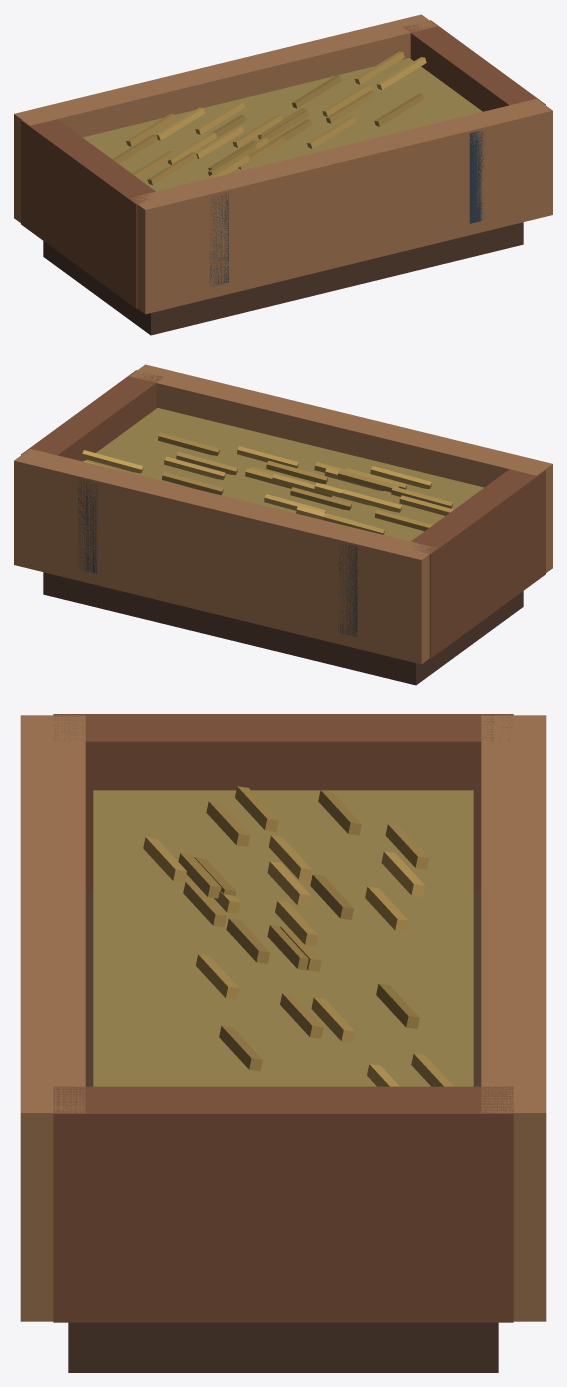
File: coop_feeder.glb
The picture shows the model from 3 angles, top to bottom: view 1: azimuth 30°, elevation 25°; view 2: azimuth 150°, elevation 25°; view 3: azimuth 270°, elevation 25°; orthographic projection. The views are drawn at different scales.
Parts seen in each view (by area): view 1: geometry, hay; view 2: geometry, hay; view 3: geometry, hay.
Part boxes in pixels (left/top/right/bottom): geometry: left=14, top=14, right=552, bottom=335; hay: left=83, top=51, right=482, bottom=191; geometry: left=14, top=364, right=552, bottom=685; hay: left=81, top=408, right=483, bottom=541; geometry: left=20, top=714, right=546, bottom=1372; hay: left=93, top=786, right=473, bottom=1086.
Size of the model in its own units: 0.945 by 0.305 by 0.525.
